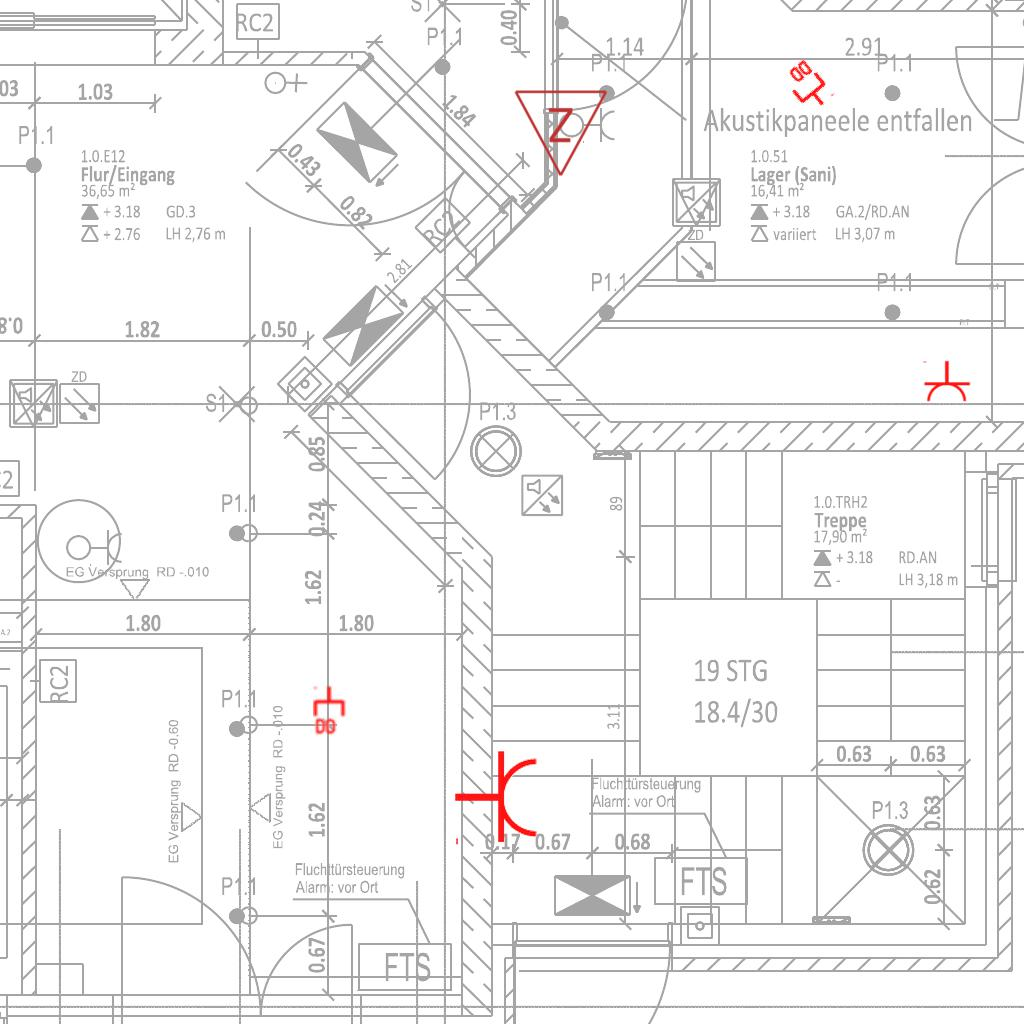Datenanschluss_zweifach: (777, 55, 837, 118), (313, 685, 347, 736)
Schukosteckdose_einfach: (453, 749, 540, 849), (921, 360, 971, 403)
Zimmersignalleuchte: (513, 83, 611, 183)
